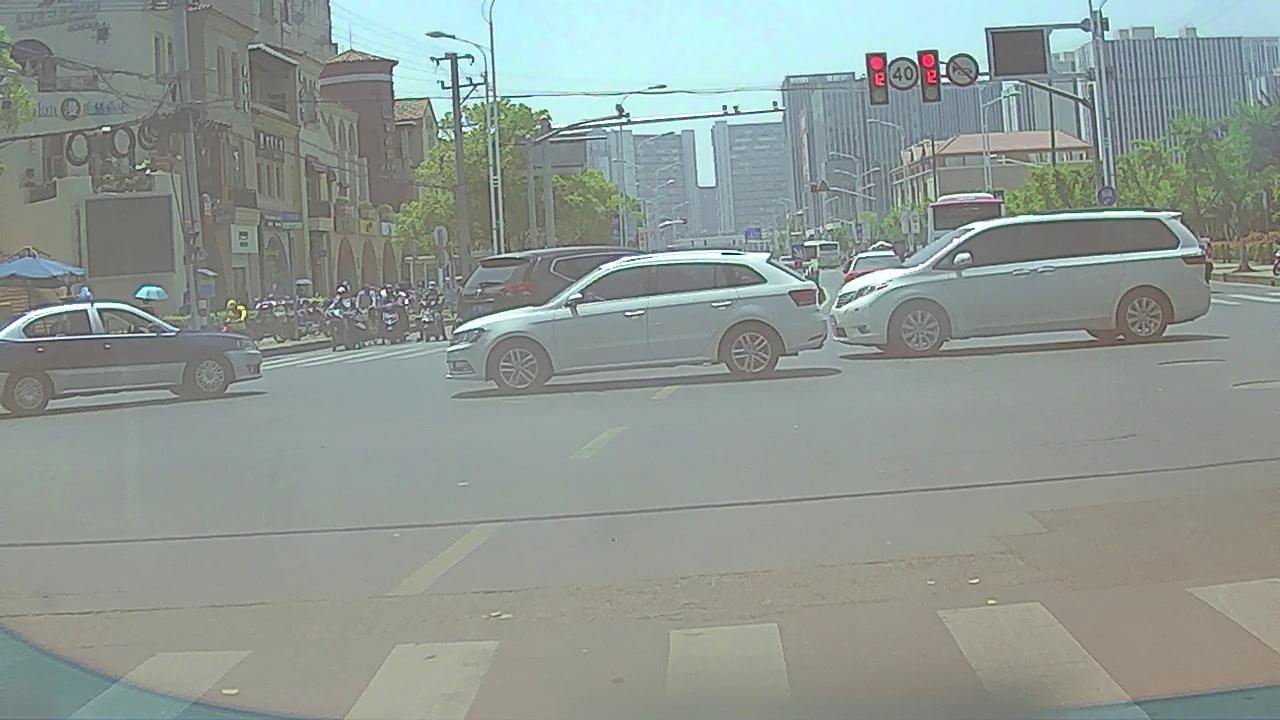traffic_light: (922, 50, 941, 103), (869, 53, 888, 104)
